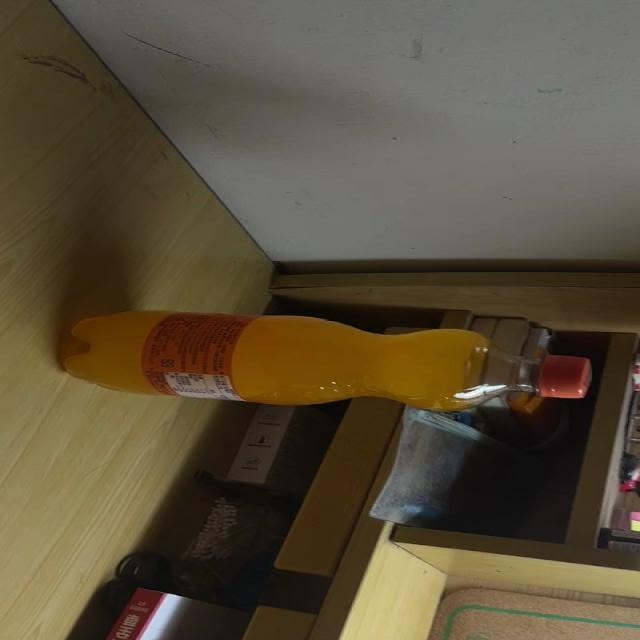Fanta: (61, 309, 592, 413)
